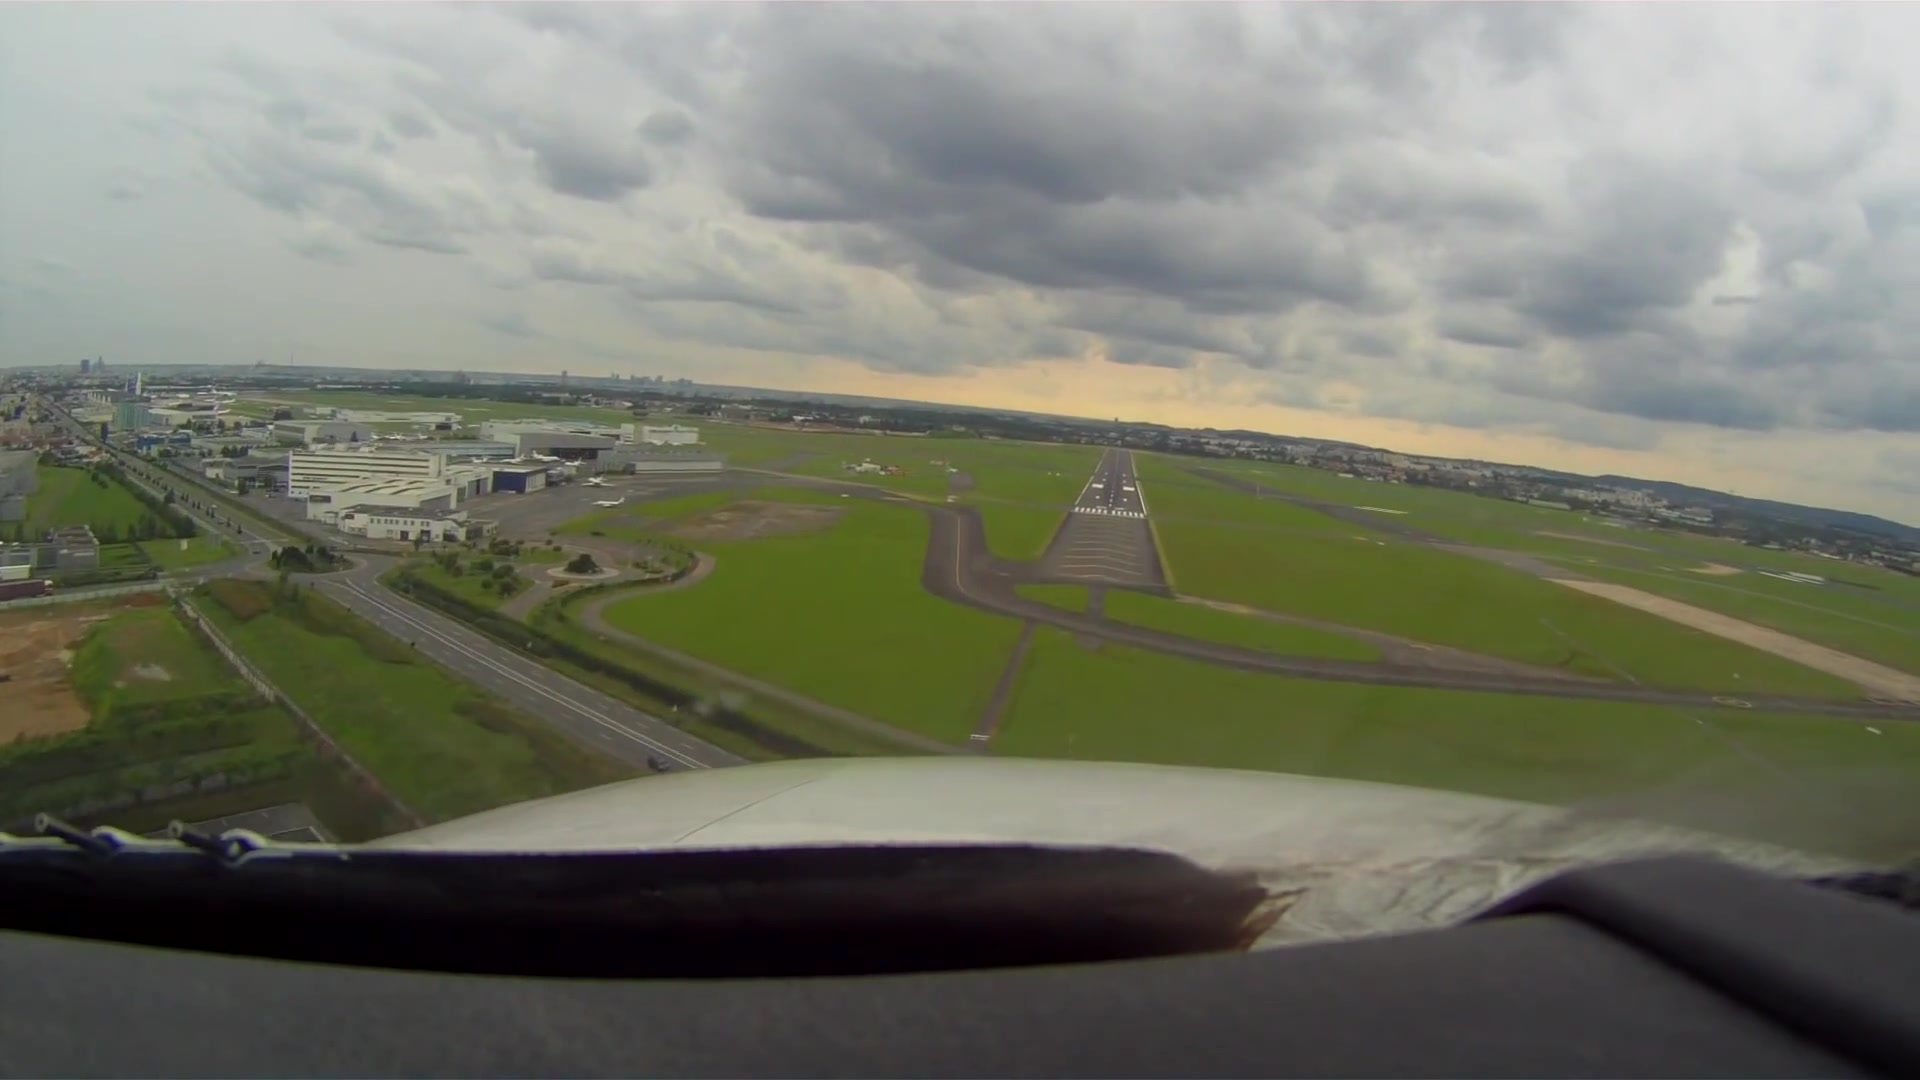entrance: (1073, 506, 1145, 518)
runway: (1072, 444, 1147, 520)
